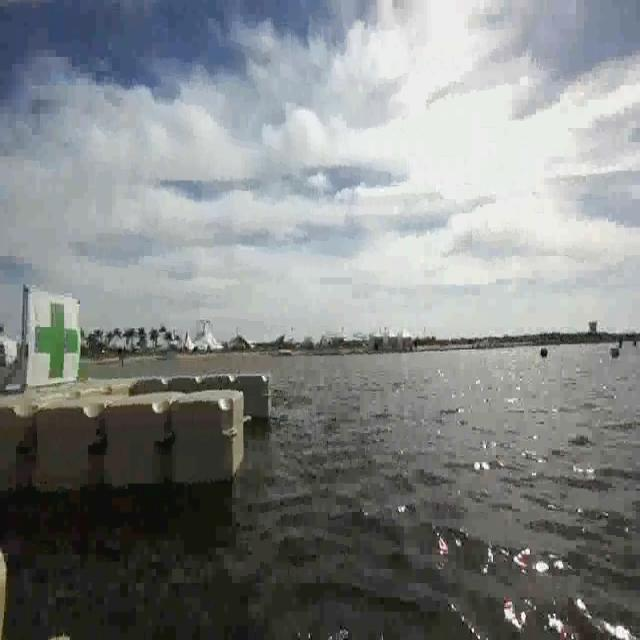blue-cross: (31, 296, 78, 378)
